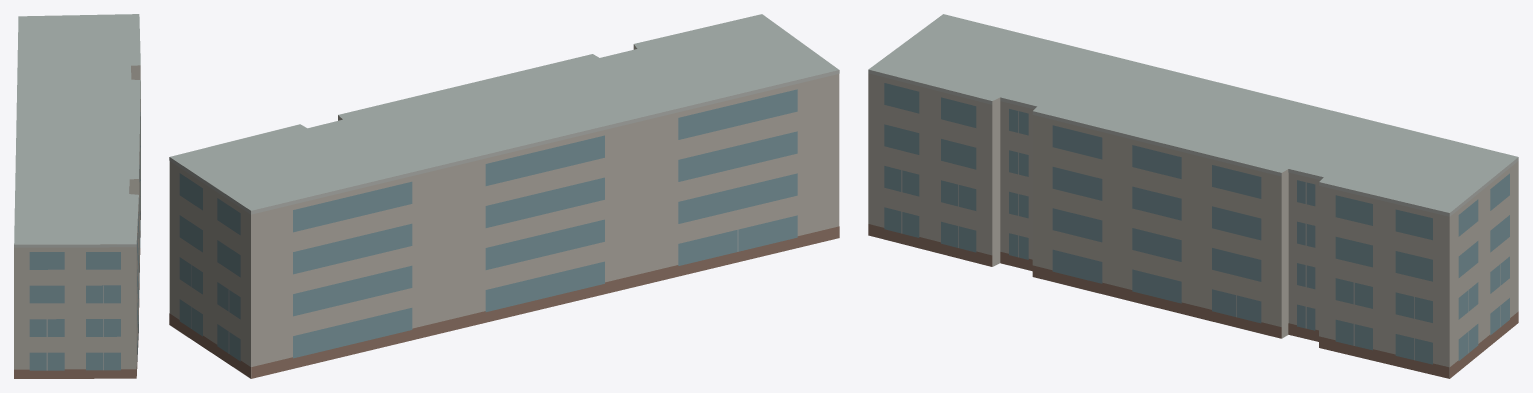
The model's file is survey-upis-32826187.glb.
3 renders of one model, left to right at view 1: azimuth 30°, elevation 25°; view 2: azimuth 150°, elevation 25°; view 3: azimuth 270°, elevation 25°, orthographic. The views are drawn at different scales.
Parts seen in each view (by area): view 1: survey-upis-32826187.tmp; view 2: survey-upis-32826187.tmp; view 3: survey-upis-32826187.tmp.
Boxes of the visible parts, bbox=[...] form: survey-upis-32826187.tmp: bbox=[14, 14, 140, 378]; survey-upis-32826187.tmp: bbox=[169, 14, 839, 378]; survey-upis-32826187.tmp: bbox=[868, 14, 1518, 378].
Bounding box in the file's own units: 27.81 × 10.8 × 38.39.
